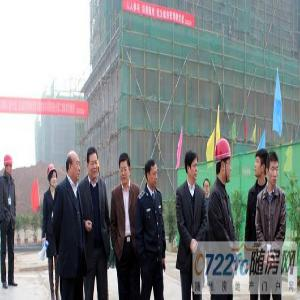none: (265, 149, 281, 187), (254, 148, 270, 182), (185, 148, 199, 184), (86, 145, 100, 180), (65, 152, 81, 182), (118, 151, 132, 185), (145, 160, 159, 190), (204, 177, 211, 199)
red: (215, 135, 234, 184), (47, 163, 58, 188), (4, 153, 14, 176)
